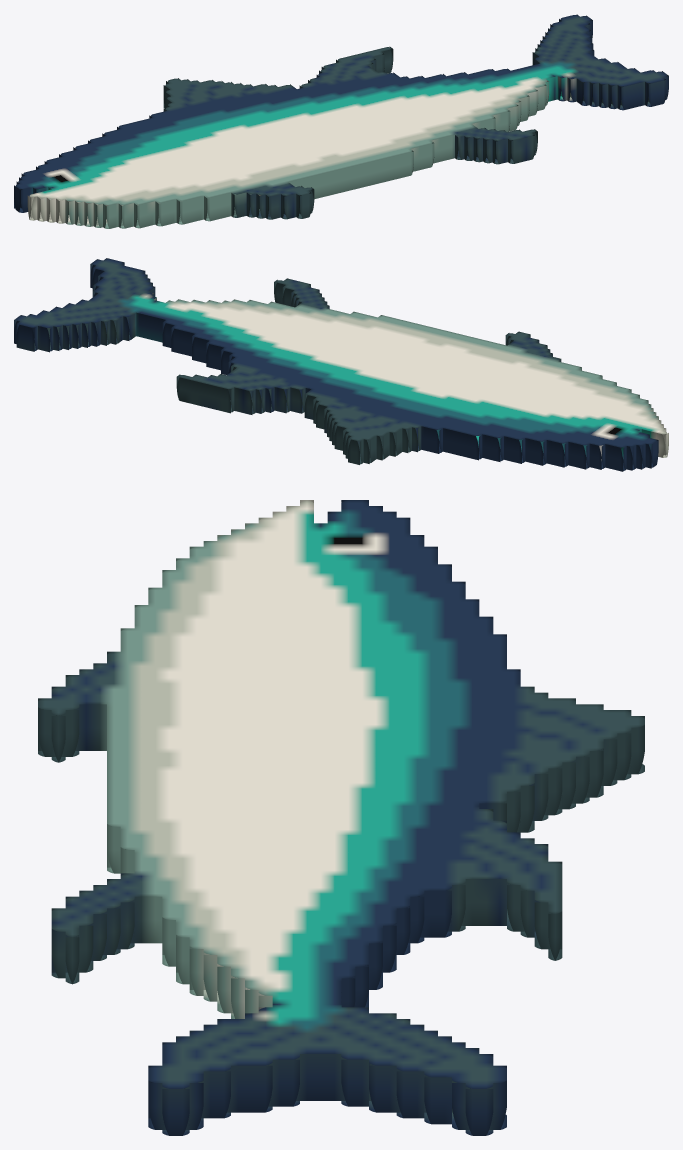
The model's file is Tuna_model.fbx.
3 renders of one model, top to bottom at view 1: azimuth 30°, elevation 25°; view 2: azimuth 150°, elevation 25°; view 3: azimuth 270°, elevation 25°, orthographic. The views are drawn at different scales.
Parts seen in each view (by area): view 1: Tuna; view 2: Tuna; view 3: Tuna.
Part boxes in pixels (x1,y1,x2,y2): Tuna: (14, 14, 668, 228); Tuna: (14, 258, 668, 471); Tuna: (38, 500, 644, 1135).
Size of the model in its own units: 84.17 by 3.12 by 36.67.
1 material, 1 textured.
